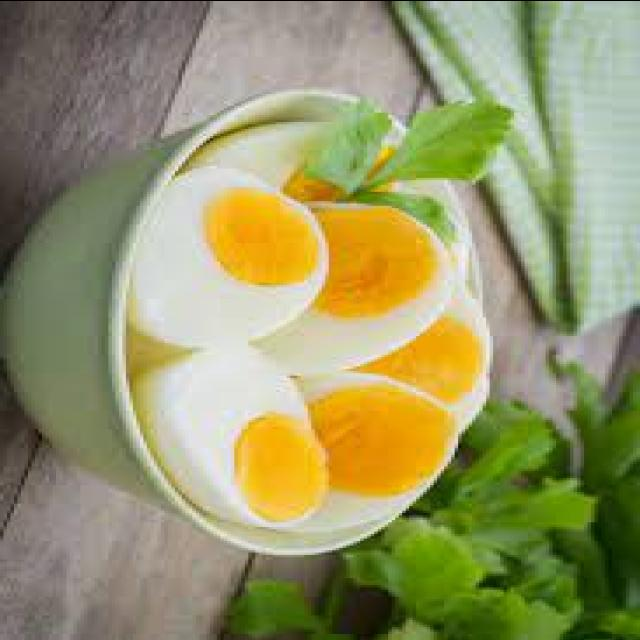telur rebus: (125, 152, 325, 370), (258, 196, 452, 386), (269, 362, 482, 524), (150, 338, 322, 534), (360, 292, 504, 418)
